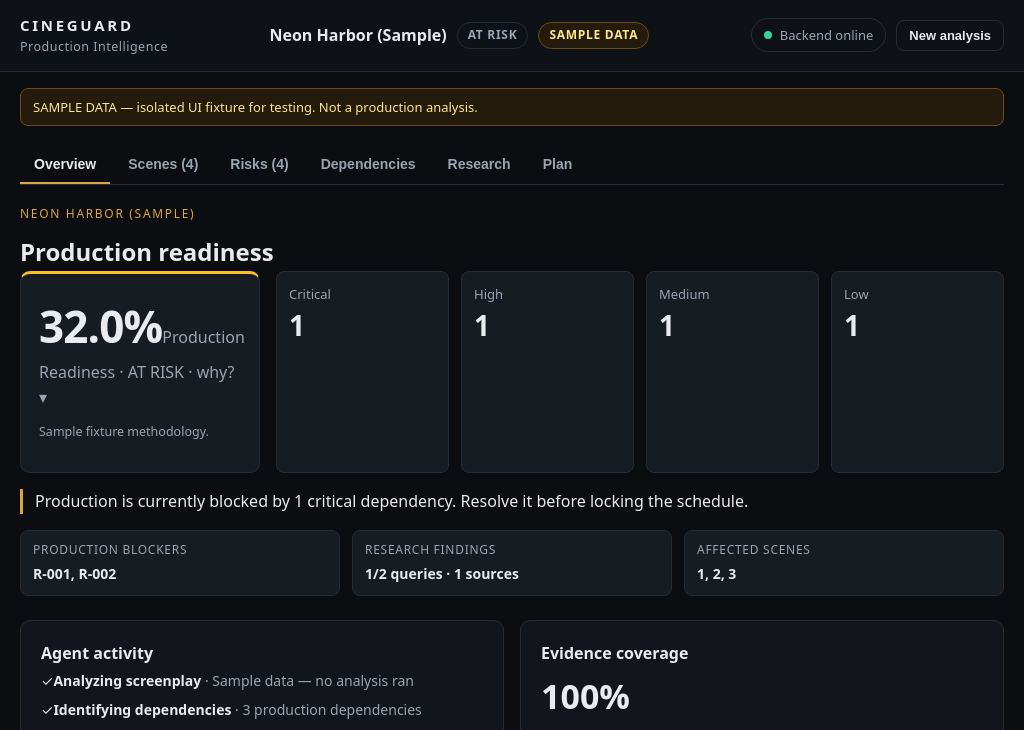
Test case: Command Center › builds a fix plan successfully from the Plan tab
The image size is (1024, 730).
Click the tab "Plan": (558, 165) [529,146,586,184]
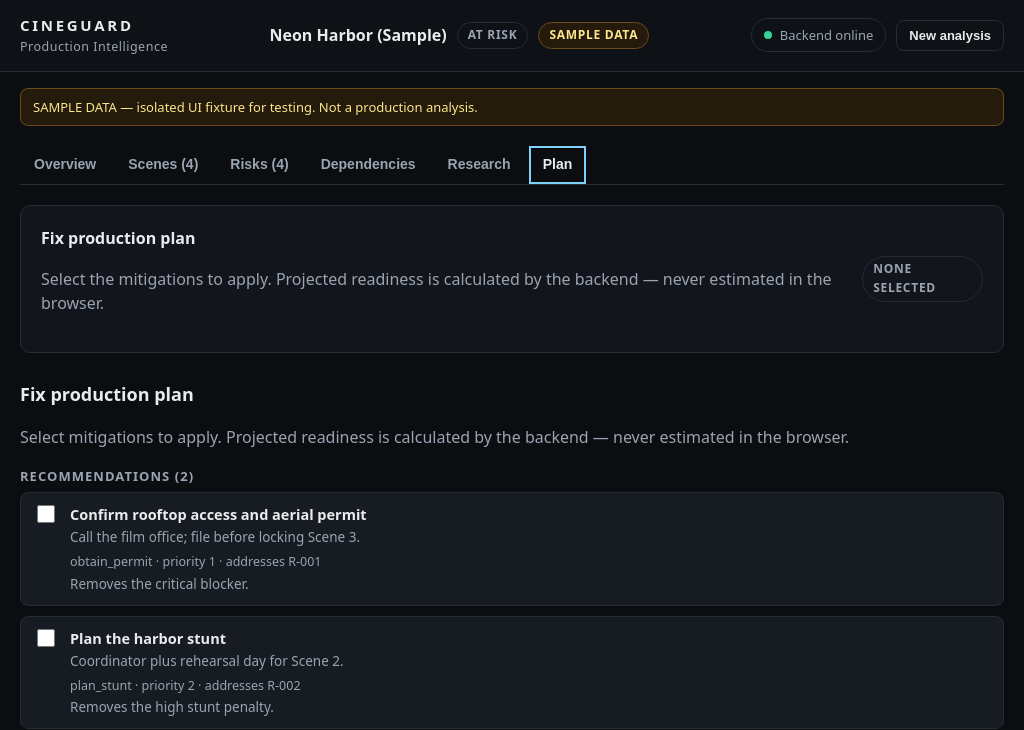
Click the checkbox labelled "rooftop access": (46, 514) [37,505,55,523]
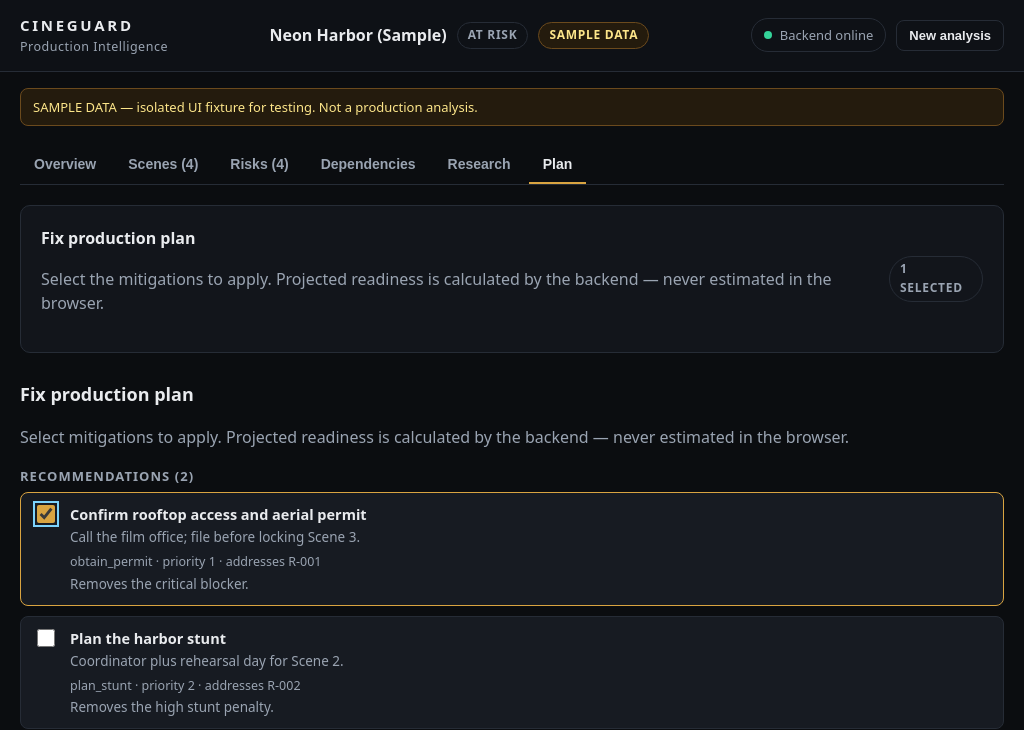
Click the checkbox labelled "harbor stunt": (46, 638) [37,629,55,647]
(page scrolled)
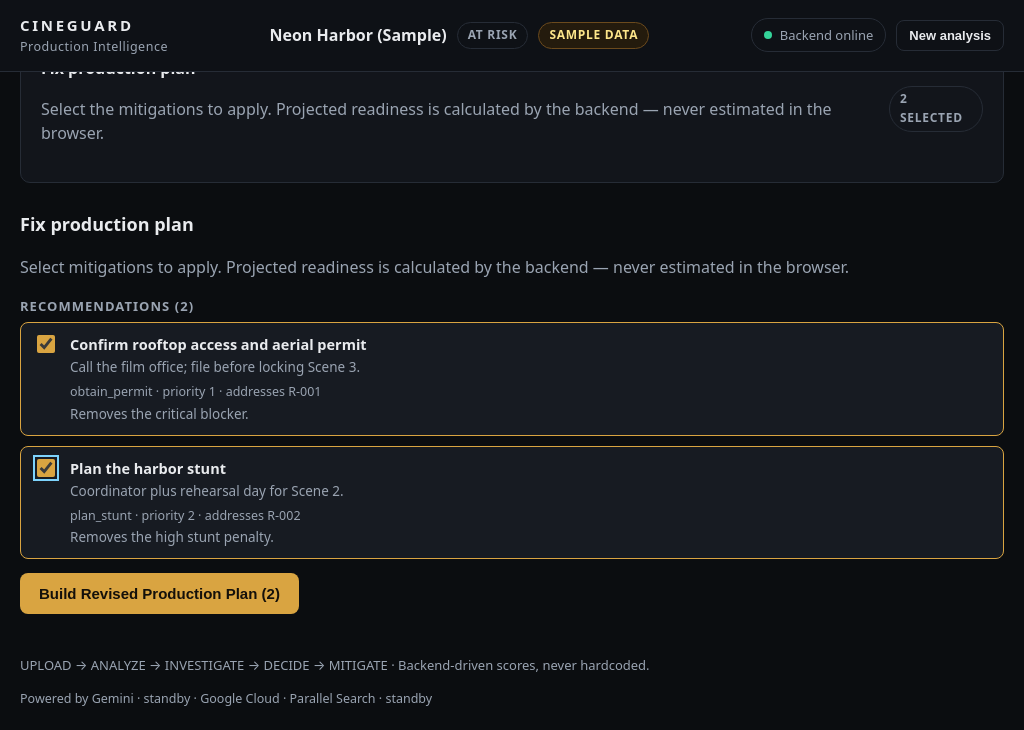
Click the button "Build Revised Production Plan (2)": (159, 594) [20,573,299,614]
(page scrolled)
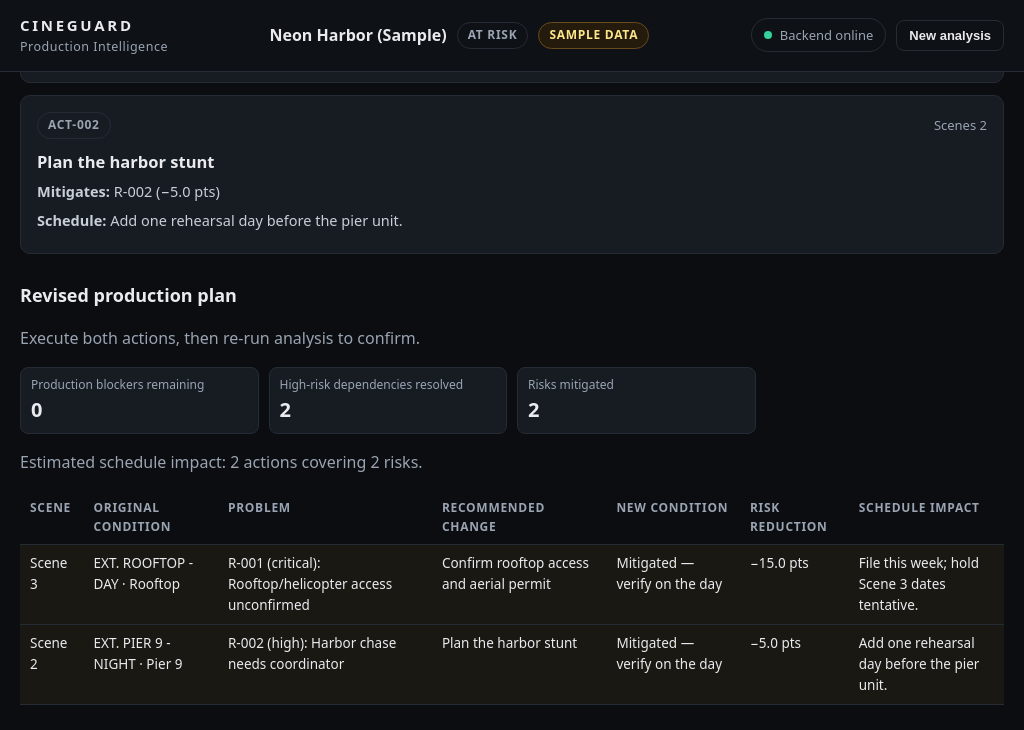
Expected: the column heading "Recommended change" is shown, [432,491,606,545]
Expected: the text "Production blockers remaining" is shown, [31,376,204,393]
